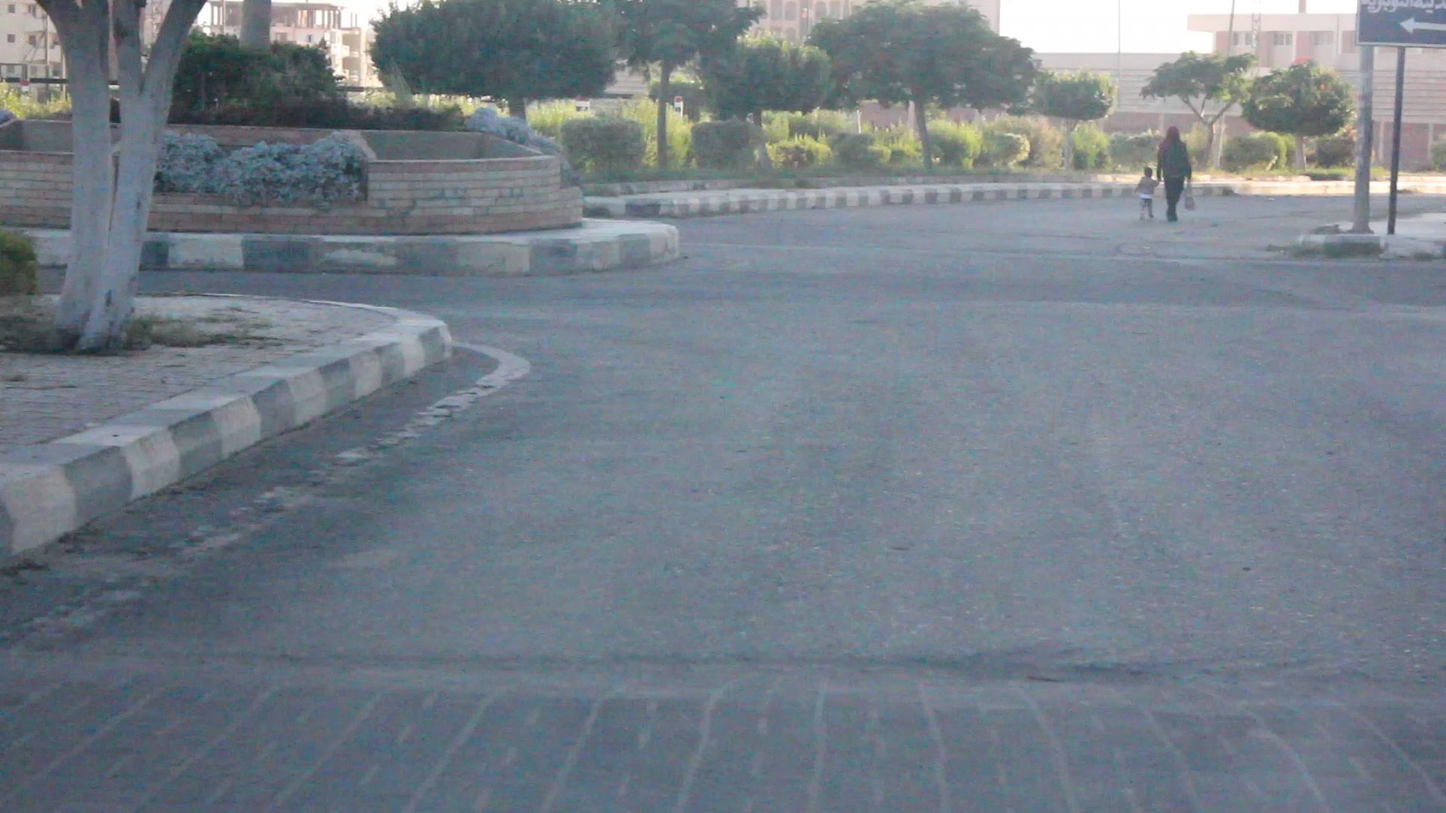Bump: (4, 647, 1446, 813)
